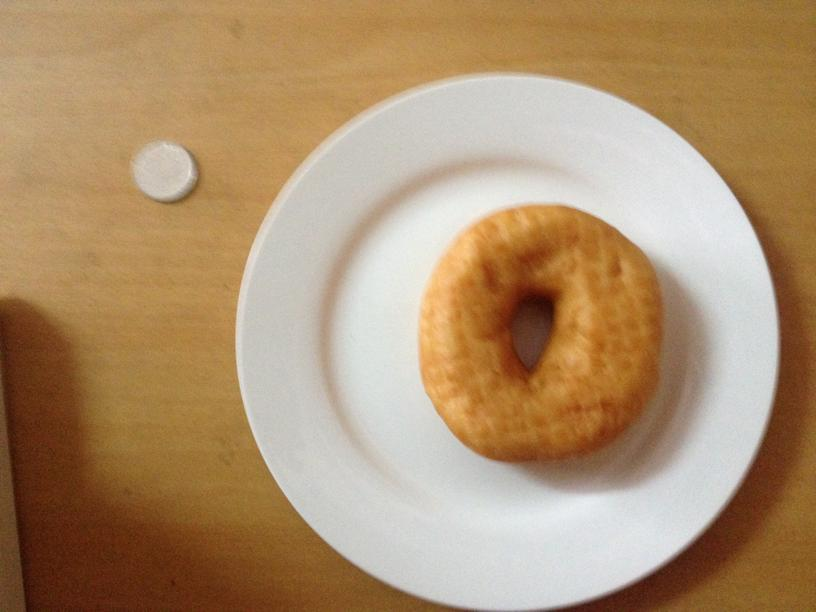coin: (126, 141, 196, 202)
doughnut: (418, 203, 660, 459)
